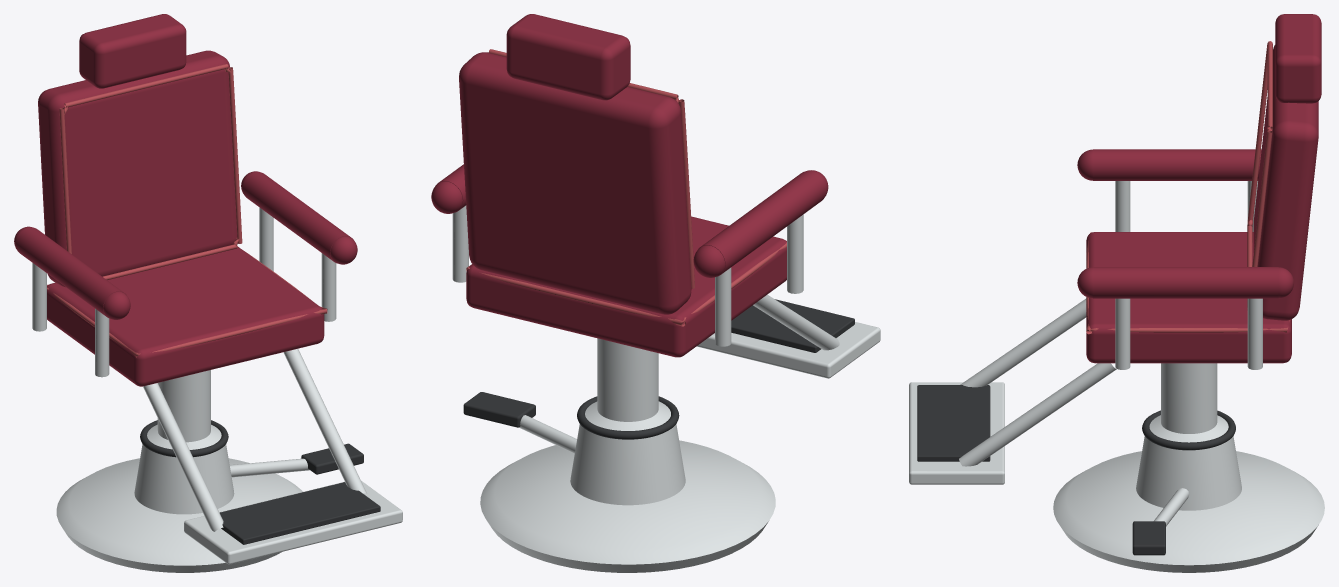
File: men.glb
3 views of the same model, side by side, from view 1: azimuth 30°, elevation 25°; view 2: azimuth 150°, elevation 25°; view 3: azimuth 270°, elevation 25° (orthographic). The views are drawn at different scales.
Visible parts, largest first — view 1: hydraulic-barber-chair; view 2: hydraulic-barber-chair; view 3: hydraulic-barber-chair.
Part boxes in pixels (box(x1,y1,x2,y2)): hydraulic-barber-chair: box(14, 14, 402, 572); hydraulic-barber-chair: box(431, 14, 880, 572); hydraulic-barber-chair: box(909, 14, 1324, 572).
Bounding box in the file's own units: 1.04 × 1.61 × 1.26.
